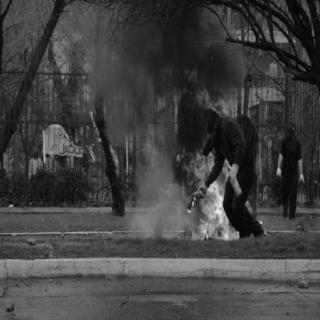Fire: (183, 14, 229, 112)
